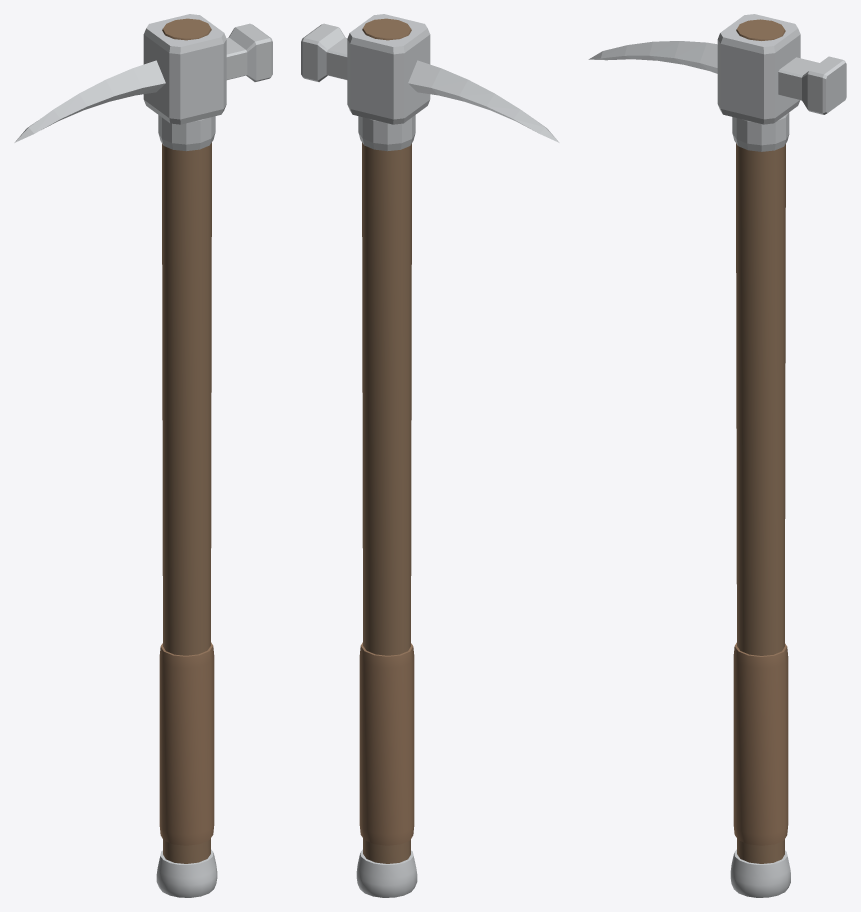
File: asset.glb
3 renders of one model, left to right at view 1: azimuth 30°, elevation 25°; view 2: azimuth 150°, elevation 25°; view 3: azimuth 330°, elevation 25°, orthographic.
Visible parts, largest first — view 1: haft, grip, head, rear, face, butt_cap; view 2: haft, grip, head, rear, face, butt_cap; view 3: haft, grip, head, face, rear, butt_cap.
Part boxes in pixels (x1,y1,x2,y2): haft: [162, 18, 211, 863]; grip: [159, 642, 214, 845]; head: [143, 14, 226, 151]; rear: [14, 60, 165, 142]; face: [226, 23, 272, 81]; butt_cap: [156, 849, 217, 897]; haft: [362, 18, 411, 863]; grip: [359, 642, 414, 845]; head: [347, 14, 430, 151]; rear: [408, 60, 559, 142]; face: [301, 23, 347, 81]; butt_cap: [356, 849, 417, 897]; haft: [736, 19, 785, 863]; grip: [733, 642, 788, 845]; head: [717, 14, 800, 151]; face: [778, 56, 846, 114]; rear: [588, 41, 717, 73]; butt_cap: [730, 849, 790, 897].
Size of the model in its own units: 0.1751 by 0.5778 by 0.0412.
